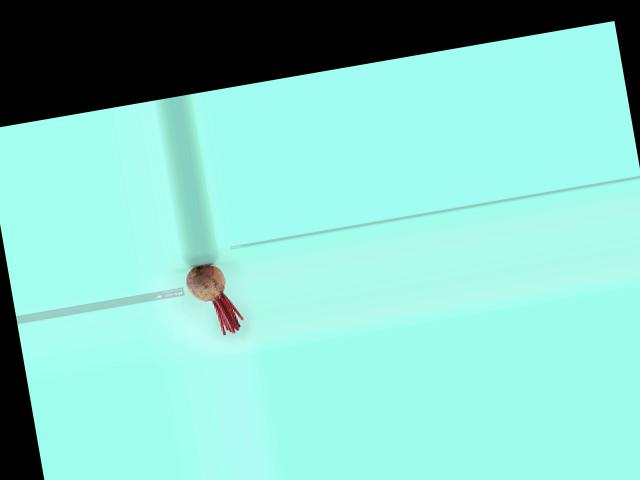beet: (183, 260, 244, 339)
